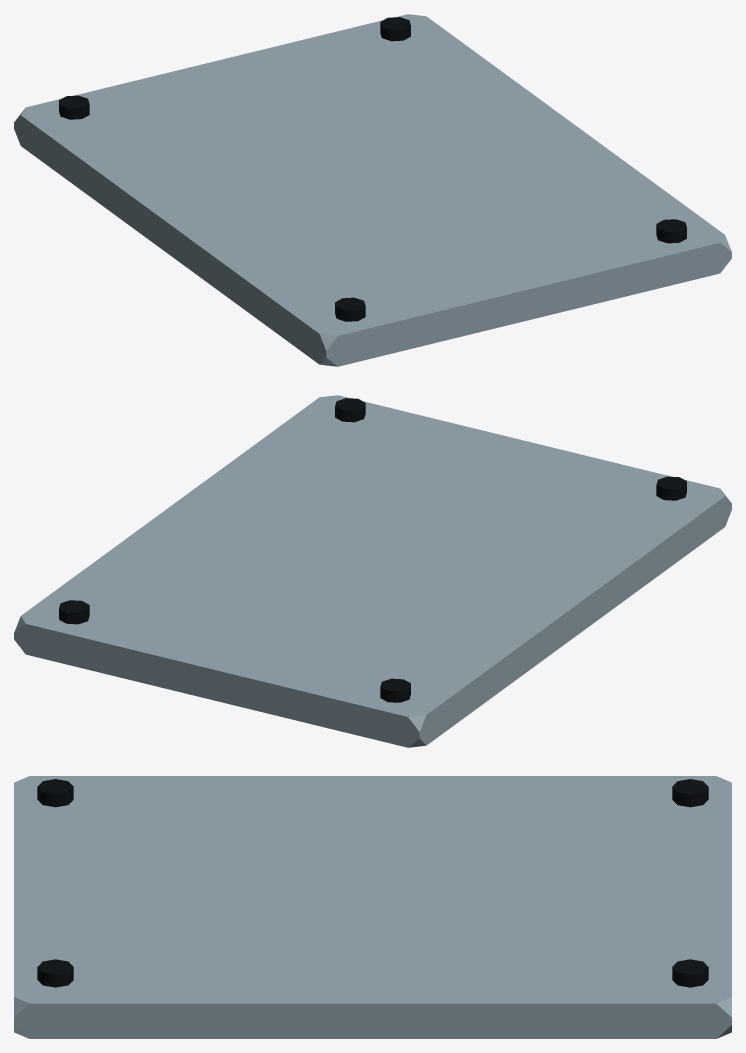
Rendered from compute_lid_concept.dae.
3 renders of one model, top to bottom at view 1: azimuth 30°, elevation 25°; view 2: azimuth 150°, elevation 25°; view 3: azimuth 270°, elevation 25°, orthographic. The views are drawn at different scales.
Visible parts, largest first — view 1: node0, node1; view 2: node0, node1; view 3: node0, node1.
Boxes of the visible parts, box(x1,y1,x2,y2) form: node0: box(14, 14, 731, 366); node1: box(59, 17, 686, 321); node0: box(14, 395, 731, 747); node1: box(59, 398, 686, 702); node0: box(14, 776, 731, 1038); node1: box(37, 779, 708, 987).
Size of the model in its own units: 0.207 by 0.276 by 0.0205.
